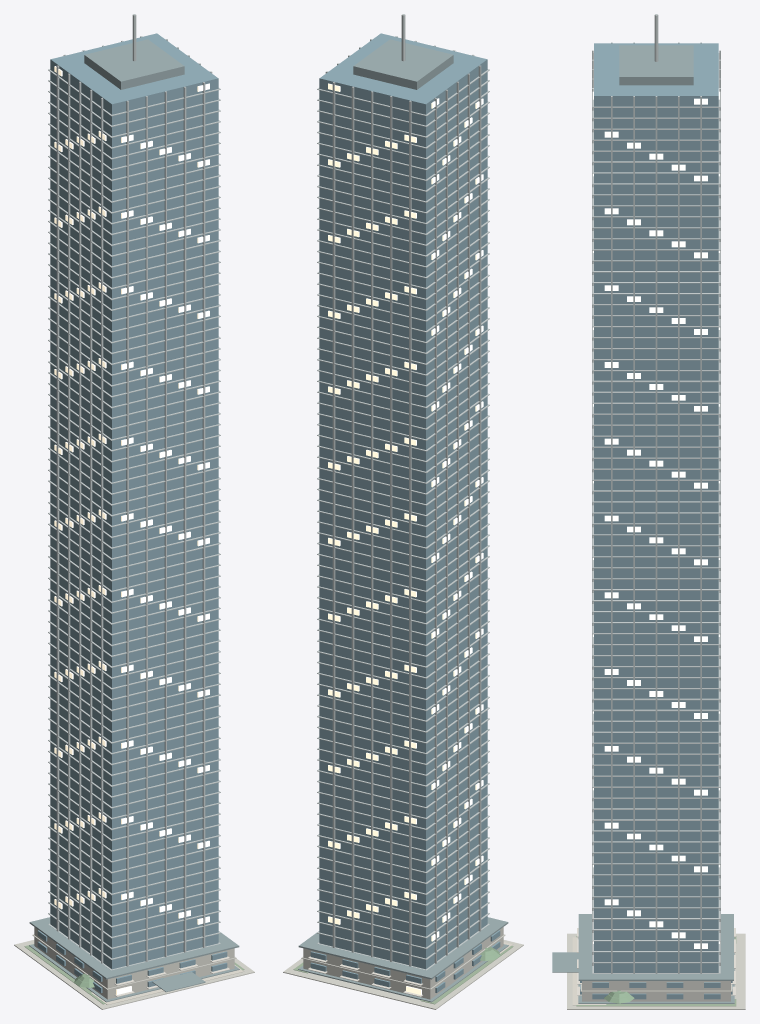
The model's file is remaster_skyscraper_10.glb.
3 renders of one model, left to right at view 1: azimuth 30°, elevation 25°; view 2: azimuth 150°, elevation 25°; view 3: azimuth 270°, elevation 25°, orthographic.
Visible parts, largest first — view 1: remaster_skyscraper_10 glass, remaster_skyscraper_10 metal, remaster_skyscraper_10 warm, remaster_skyscraper_10 roof, remaster_skyscraper_10 stone; view 2: remaster_skyscraper_10 glass, remaster_skyscraper_10 metal, remaster_skyscraper_10 warm, remaster_skyscraper_10 roof, remaster_skyscraper_10 stone; view 3: remaster_skyscraper_10 glass, remaster_skyscraper_10 metal, remaster_skyscraper_10 roof, remaster_skyscraper_10 warm, remaster_skyscraper_10 stone, remaster_skyscraper_10 green.
Boxes of the visible parts, bbox=[...] form: remaster_skyscraper_10 glass: bbox=[37, 33, 227, 992]; remaster_skyscraper_10 metal: bbox=[48, 14, 220, 970]; remaster_skyscraper_10 warm: bbox=[54, 66, 209, 994]; remaster_skyscraper_10 roof: bbox=[29, 39, 239, 1002]; remaster_skyscraper_10 stone: bbox=[14, 927, 254, 1009]; remaster_skyscraper_10 glass: bbox=[310, 33, 500, 992]; remaster_skyscraper_10 metal: bbox=[317, 14, 489, 970]; remaster_skyscraper_10 warm: bbox=[328, 83, 483, 994]; remaster_skyscraper_10 roof: bbox=[298, 39, 508, 1002]; remaster_skyscraper_10 stone: bbox=[283, 927, 523, 1009]; remaster_skyscraper_10 glass: bbox=[580, 43, 732, 999]; remaster_skyscraper_10 metal: bbox=[592, 14, 720, 973]; remaster_skyscraper_10 roof: bbox=[552, 45, 734, 1003]; remaster_skyscraper_10 warm: bbox=[592, 88, 720, 948]; remaster_skyscraper_10 stone: bbox=[567, 933, 745, 1009]; remaster_skyscraper_10 green: bbox=[576, 936, 736, 1006].
Bounding box in the file's own units: 38.58 × 227 × 41.6.
